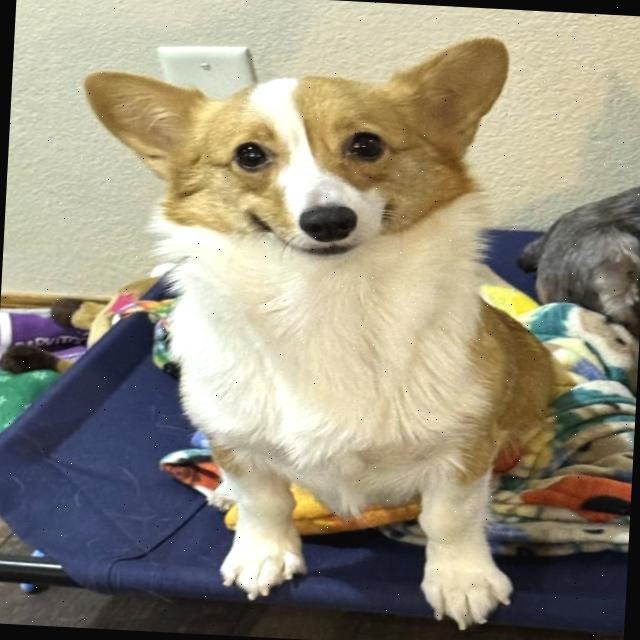corgi_dog: (46, 12, 544, 305)
